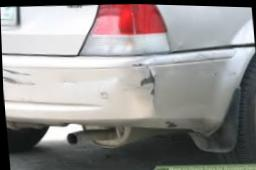Bumper: (2, 46, 255, 148)
Fender: (158, 4, 255, 50)
